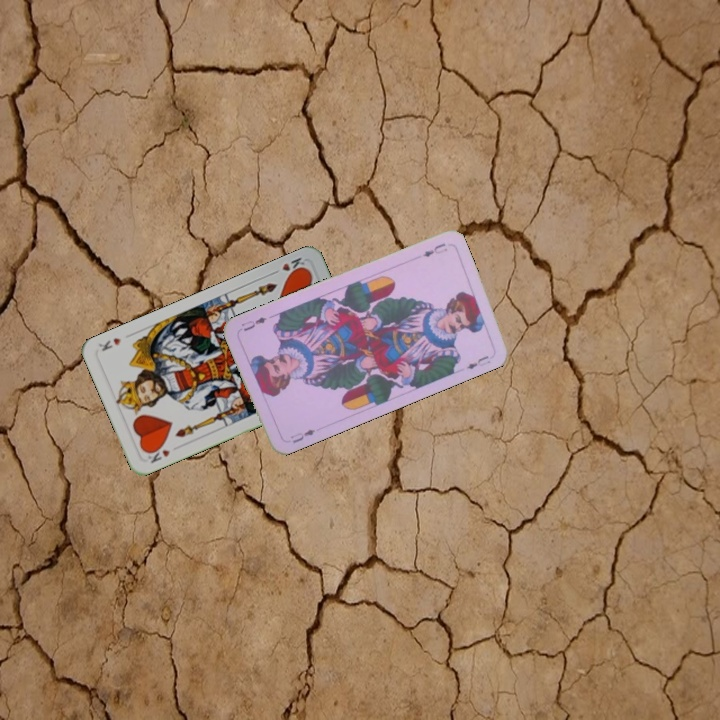EU: (286, 425, 318, 446), (419, 239, 450, 260)
HK: (268, 253, 309, 279), (143, 442, 173, 466)
